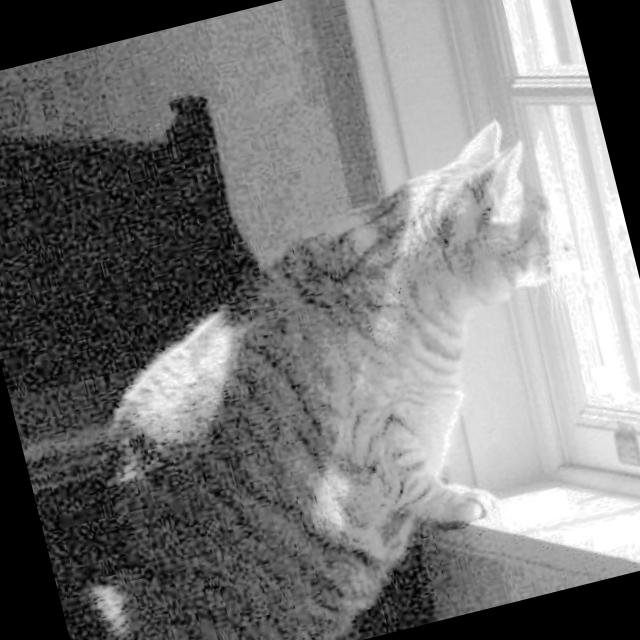Cat: (0, 121, 613, 640)
